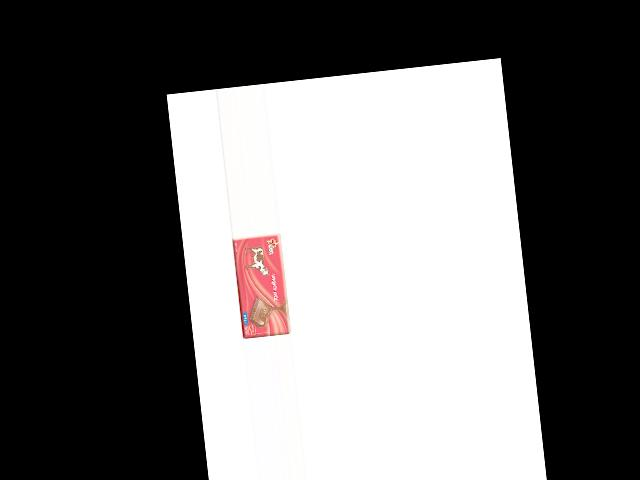chocolate: (232, 232, 291, 339)
